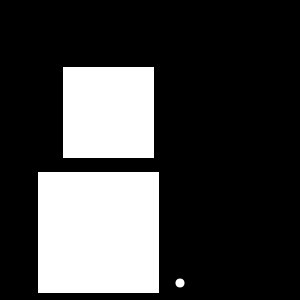circle: (38, 172, 159, 293), (63, 67, 154, 158)
rectangle: (176, 278, 184, 288)
